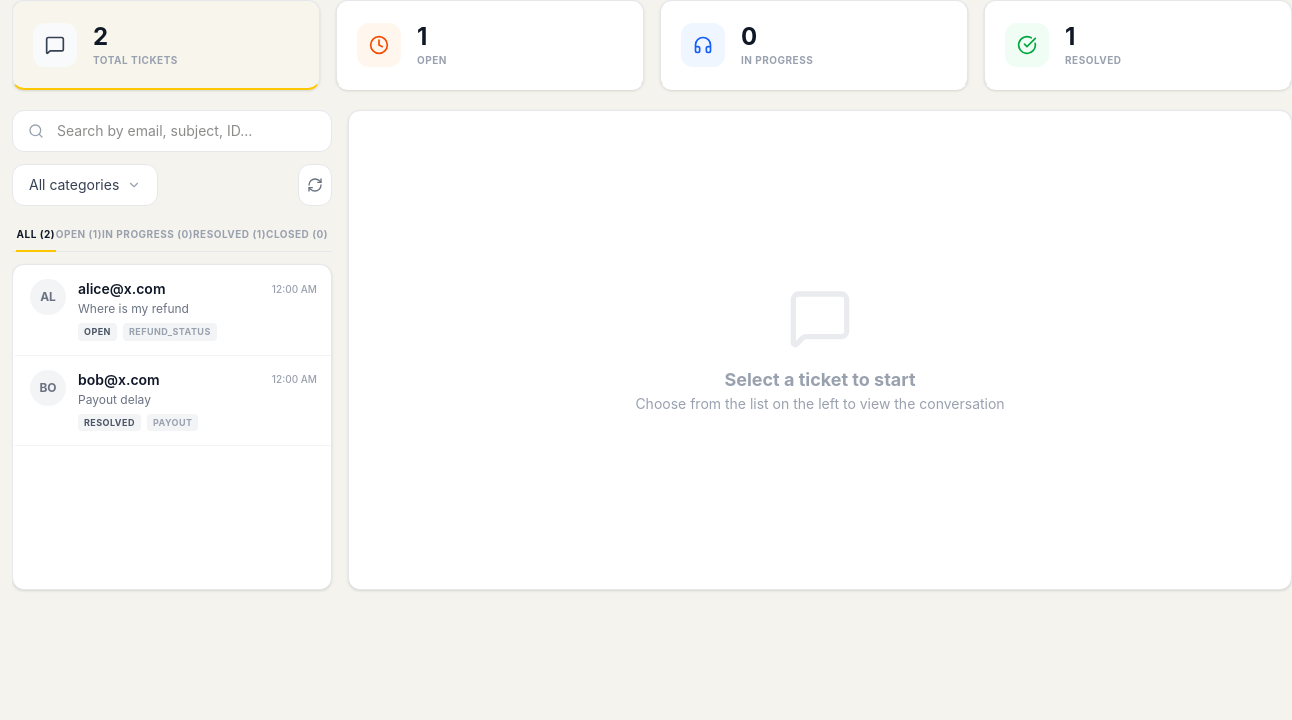
Test: SupportSystem › full-loads a thread (no since) and renders its messages
Click the heading "alice@x.com" at (122, 289), box [78, 279, 166, 299]
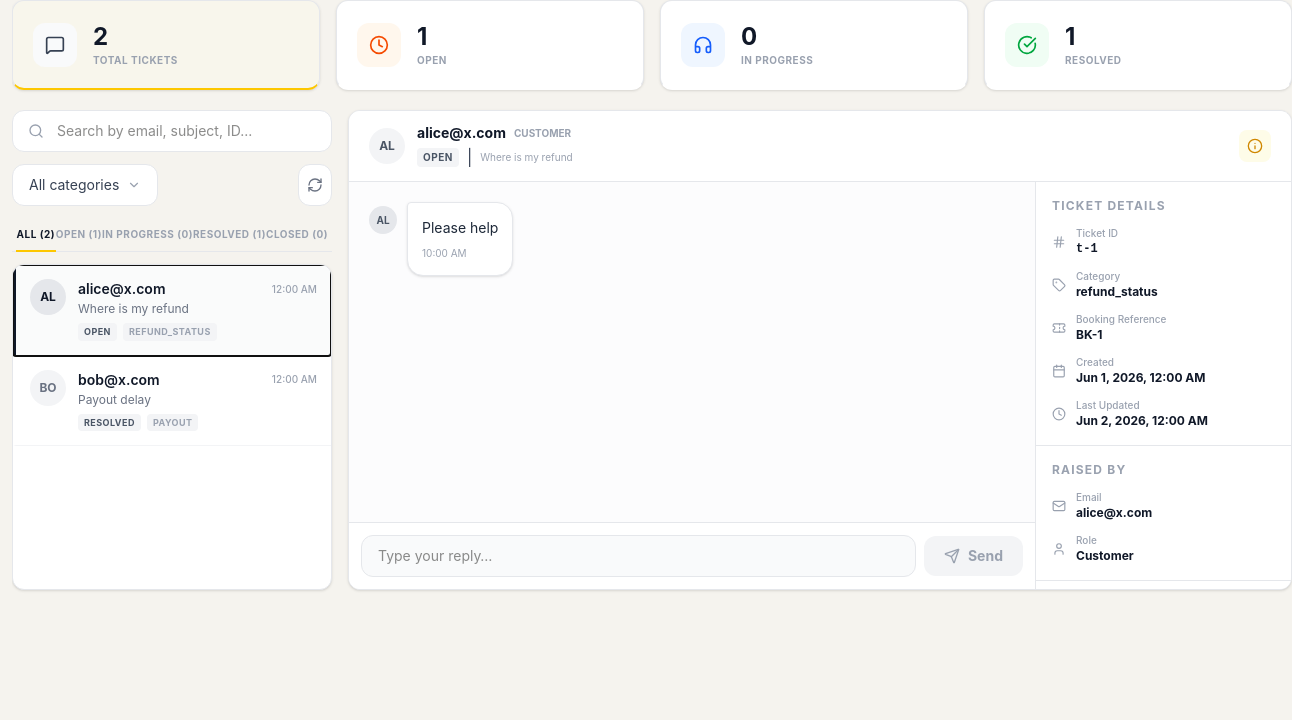
expect the text "Please help" is shown: met, box [422, 217, 498, 240]
